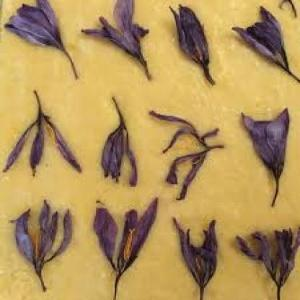Saffron: (152, 109, 225, 202), (8, 90, 81, 180), (94, 199, 158, 300), (13, 202, 74, 292), (3, 0, 78, 73), (169, 216, 227, 300), (82, 0, 155, 65), (240, 112, 297, 194), (233, 3, 298, 71), (241, 229, 300, 300), (169, 4, 221, 76), (103, 96, 138, 185)
